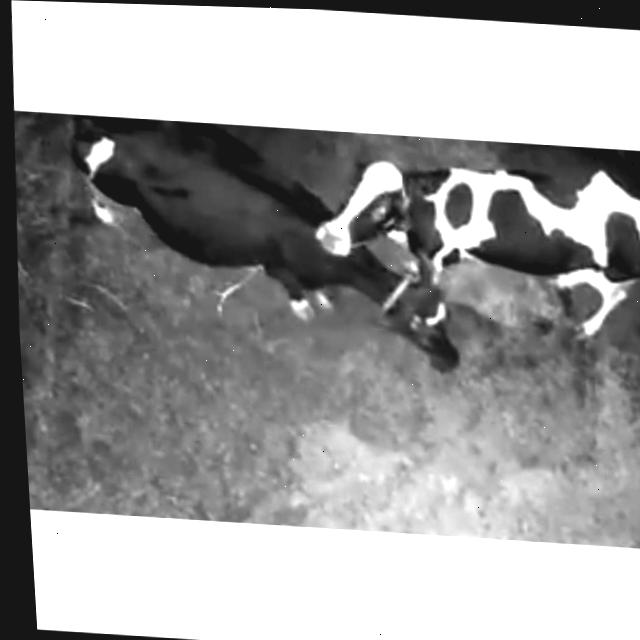propping: (276, 138, 431, 299)
